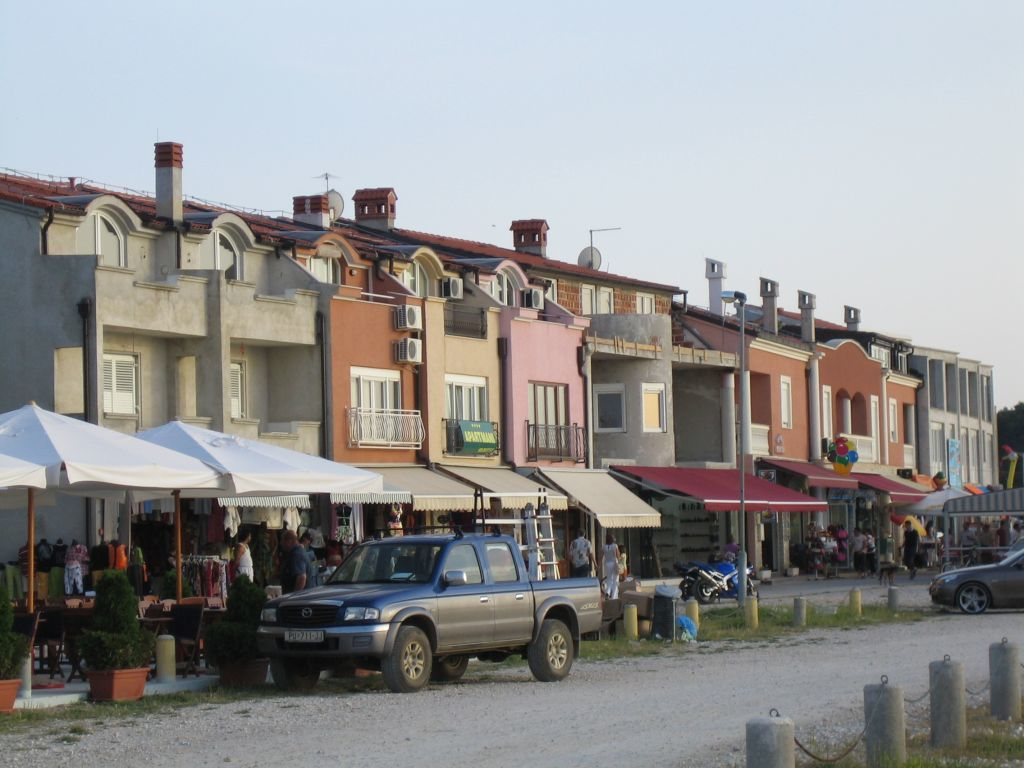Car: (929, 549, 1022, 615)
